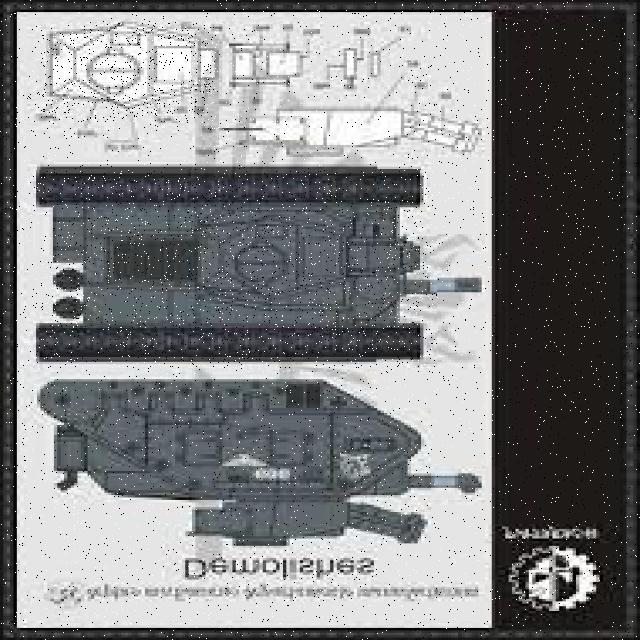MIL_MBT: (34, 171, 437, 367), (42, 388, 426, 559), (36, 23, 216, 122)
